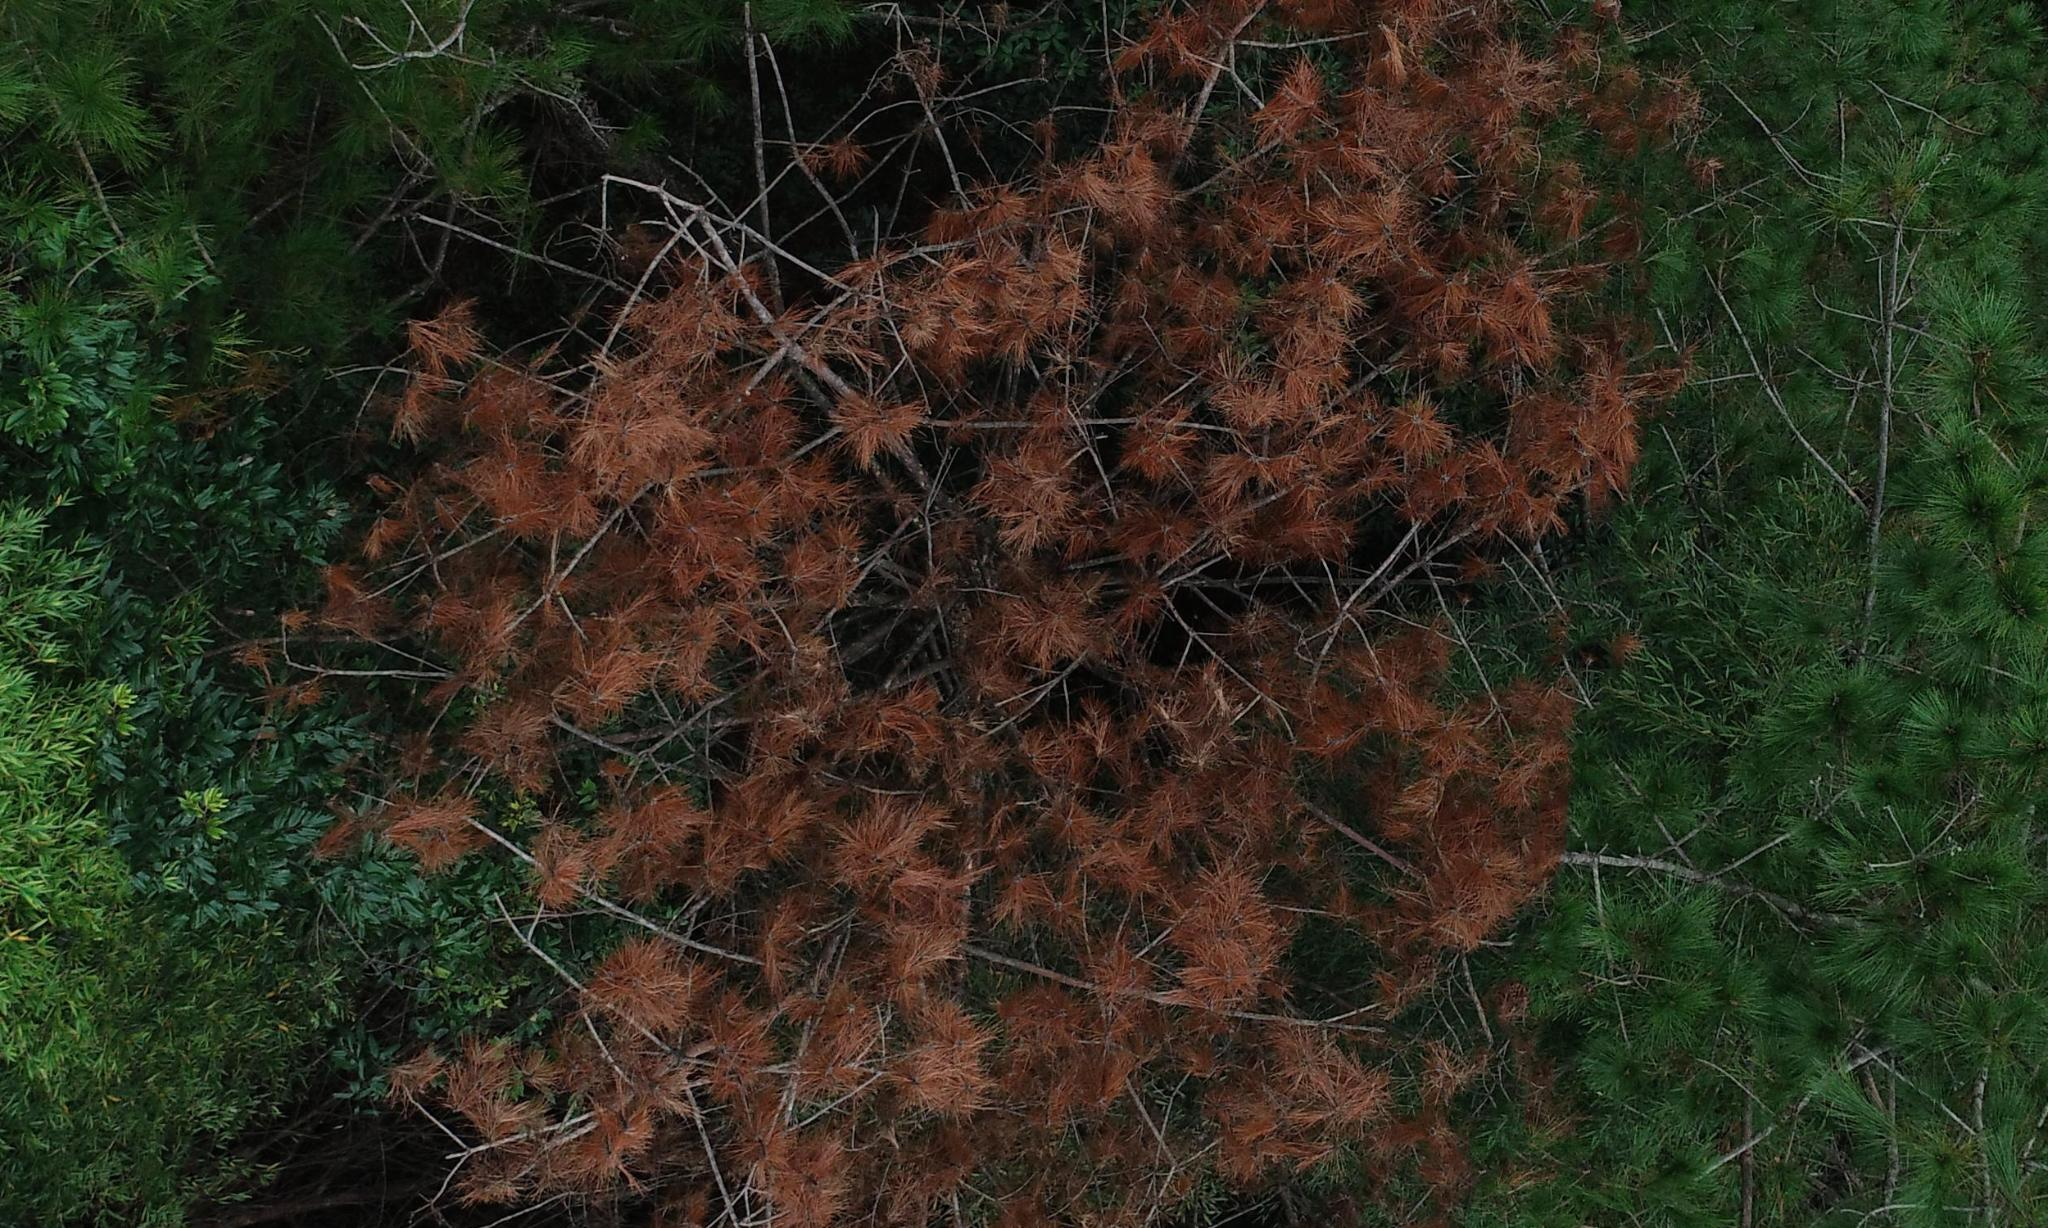heavy: (189, 15, 1595, 1203)
